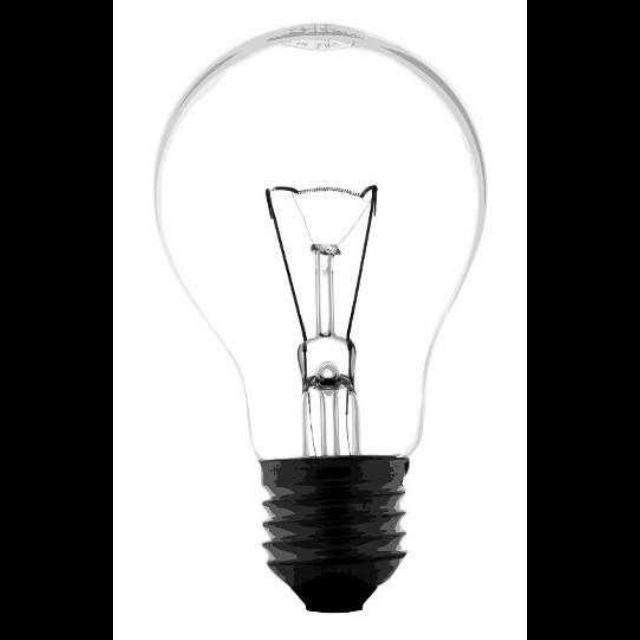light_bulb: (148, 20, 476, 626)
